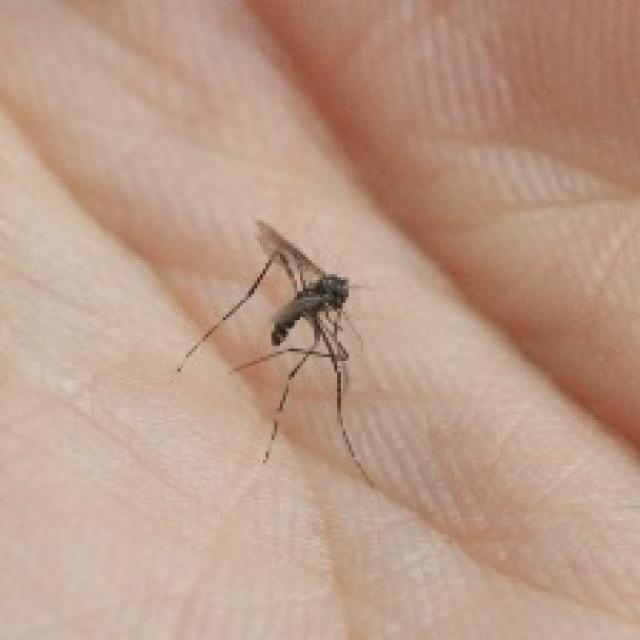aedes: (172, 217, 377, 489)
